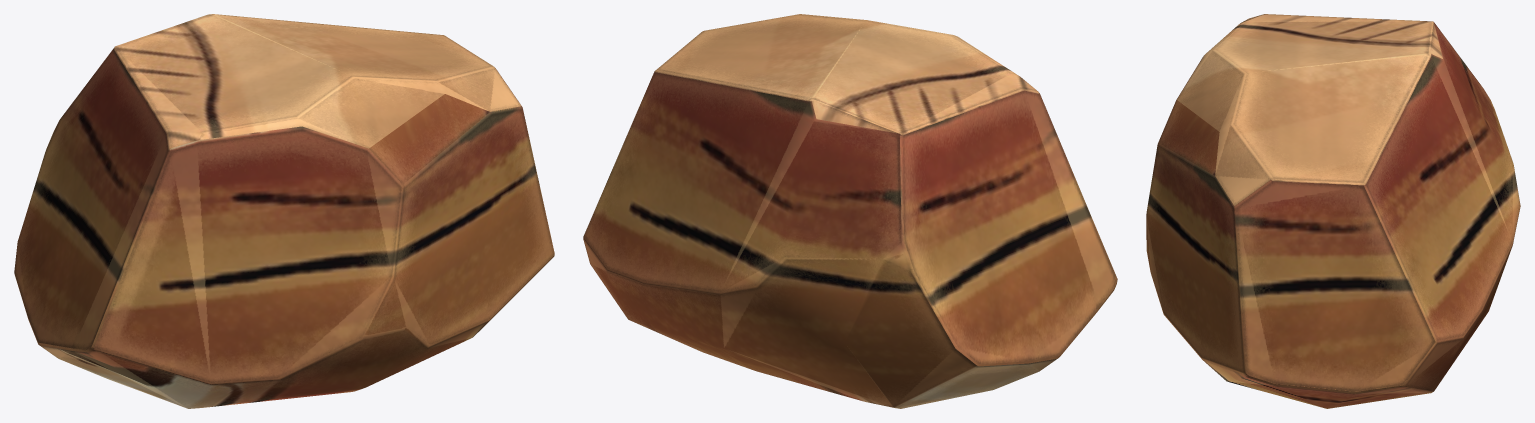
The model's file is rock_01.glb.
The picture shows the model from 3 angles, left to right: view 1: azimuth 30°, elevation 25°; view 2: azimuth 150°, elevation 25°; view 3: azimuth 270°, elevation 25°; orthographic projection. The views are drawn at different scales.
Visible parts, largest first — view 1: rock_01; view 2: rock_01; view 3: rock_01.
Part boxes in pixels (x1,y1,x2,y2): rock_01: (14, 14, 554, 408); rock_01: (583, 14, 1117, 408); rock_01: (1146, 14, 1520, 408).
Bounding box in the file's own units: 0.3591 × 0.22 × 0.2696.
1 material, 1 textured.
